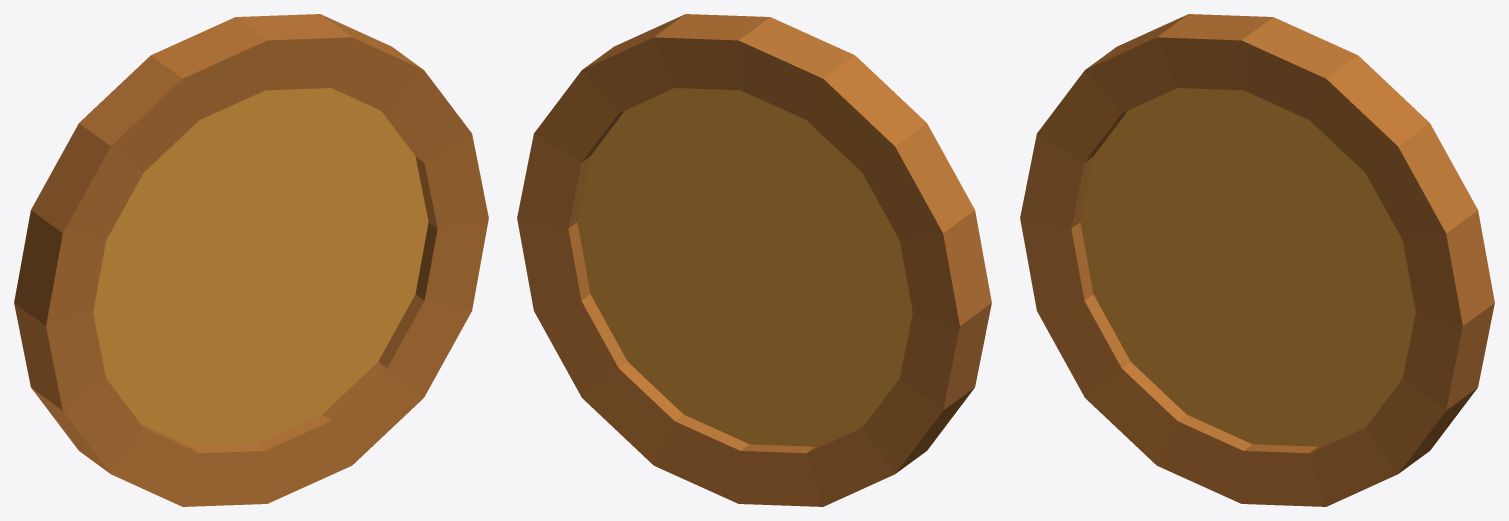
Rendered from 001_Gold_Coin.fbx.
3 views of the same model, side by side, from view 1: azimuth 30°, elevation 25°; view 2: azimuth 150°, elevation 25°; view 3: azimuth 330°, elevation 25° (orthographic).
Parts seen in each view (by area): view 1: Gold Coin; view 2: Gold Coin; view 3: Gold Coin.
Part boxes in pixels (x1,y1,x2,y2): Gold Coin: (14,14,488,506); Gold Coin: (517,14,991,506); Gold Coin: (1020,14,1494,506).
Size of the model in its own units: 40 by 40 by 5.
